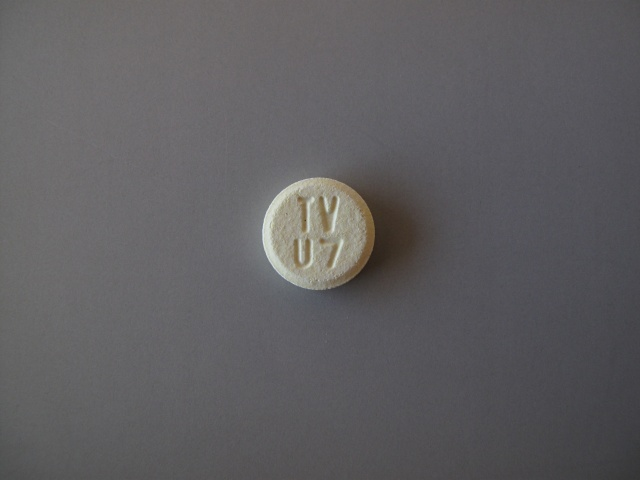7: (317, 235, 344, 269)
T: (292, 194, 316, 236)
U: (293, 237, 313, 272)
V: (314, 193, 344, 232)
